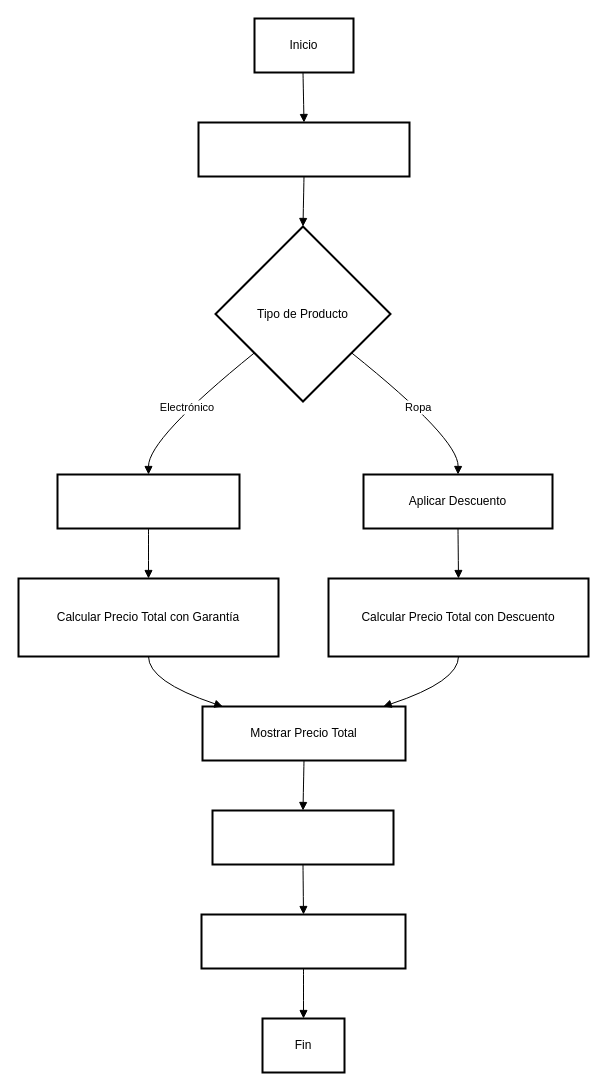
This 606x1090 diagram has some shape labels left out. Each missing label, with the centre of its shape:
Agregar Garantía: the point at 148,501
Enviar Confirmación: the point at 303,941
Finalizar Compra: the point at 302,837
Seleccionar Producto: the point at 303,149
